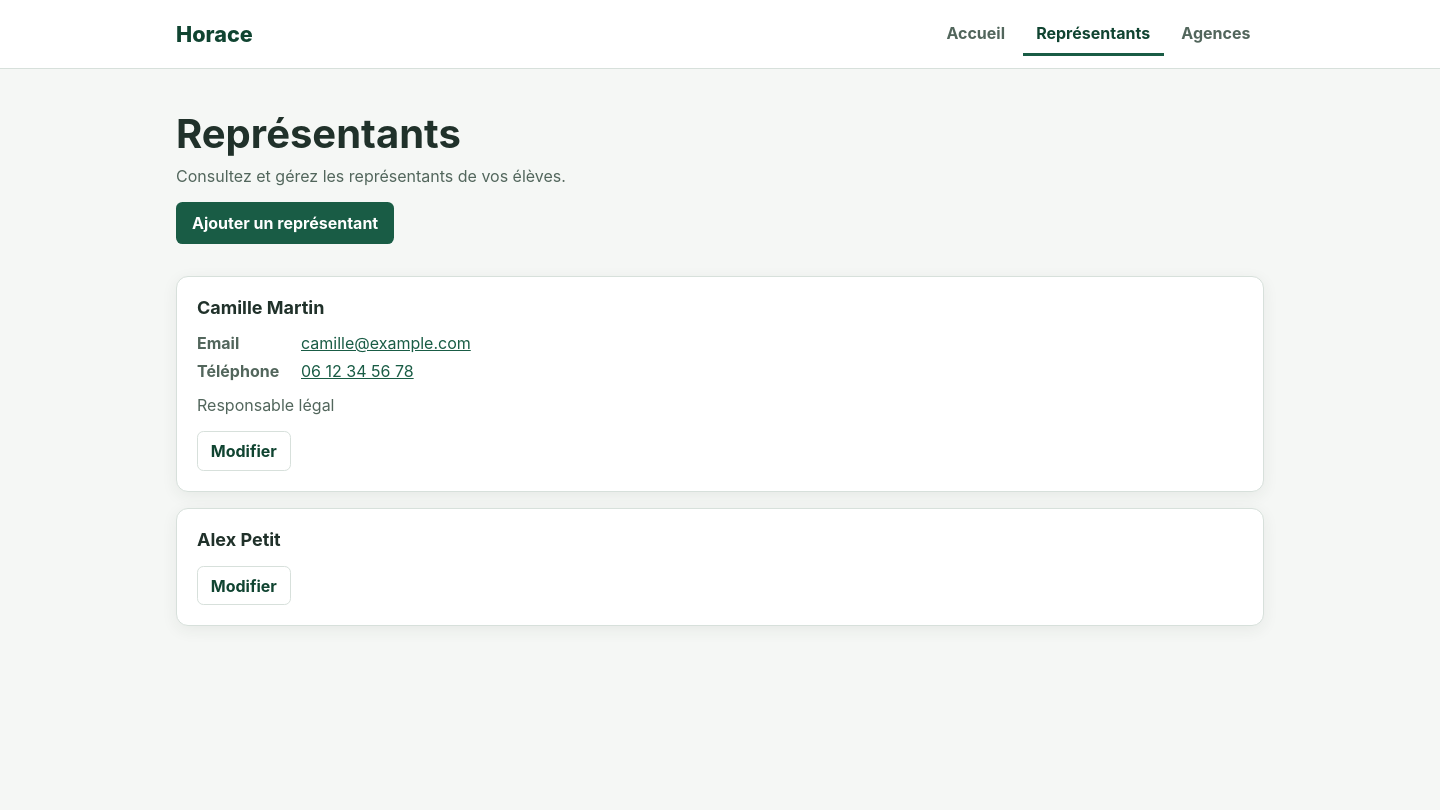
Test: page représentants › envoie seulement les champs dirty et null pour effacer une valeur
The image size is (1440, 810).
Check: the heading "Camille Martin" is shown, box left=197, top=297, right=324, bottom=318
Click the button "Modifier" below "Martin": {"x": 244, "y": 451} left=197, top=431, right=291, bottom=471
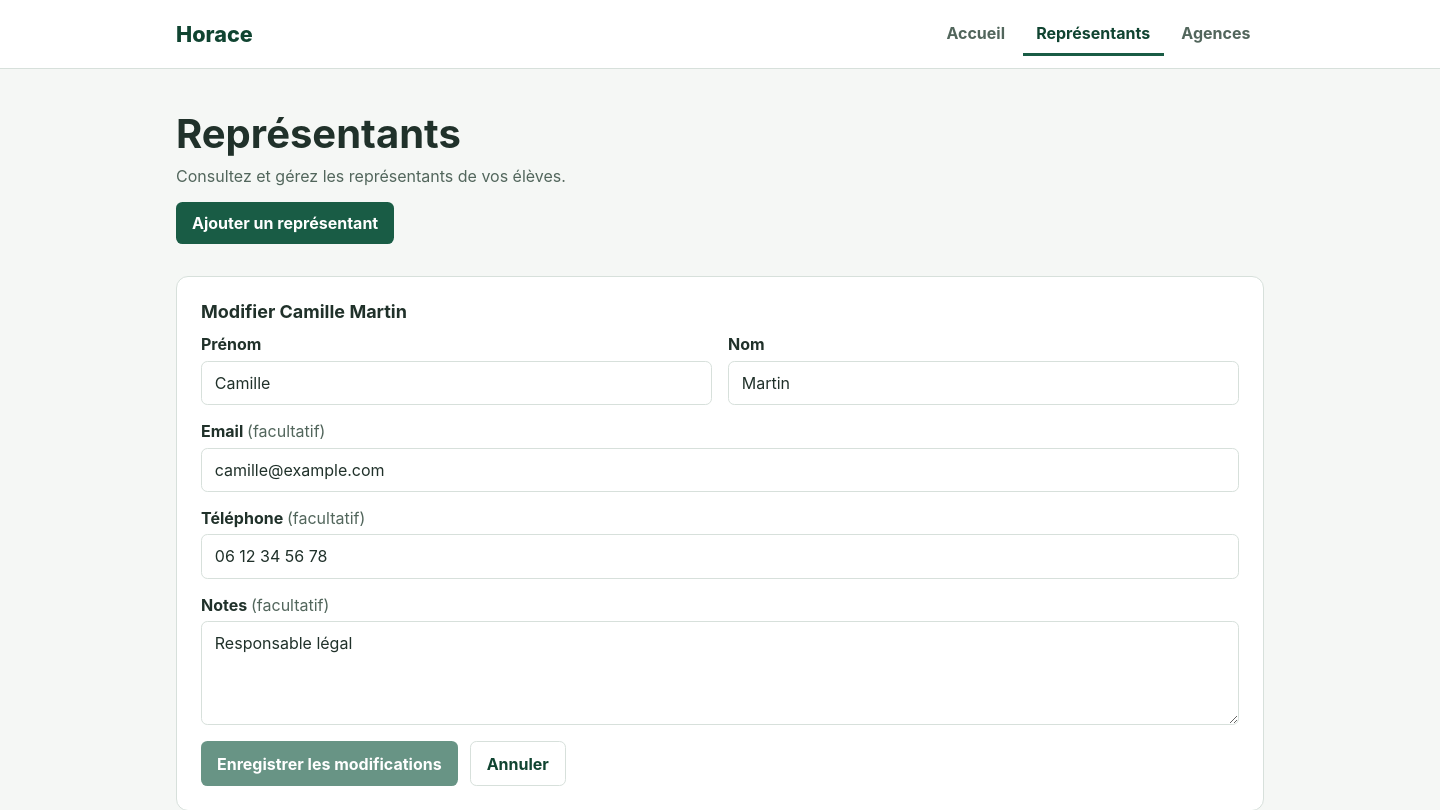
Replace the text in the field labelled "Nom" with "Bernard": {"x": 984, "y": 383} left=728, top=361, right=1239, bottom=405
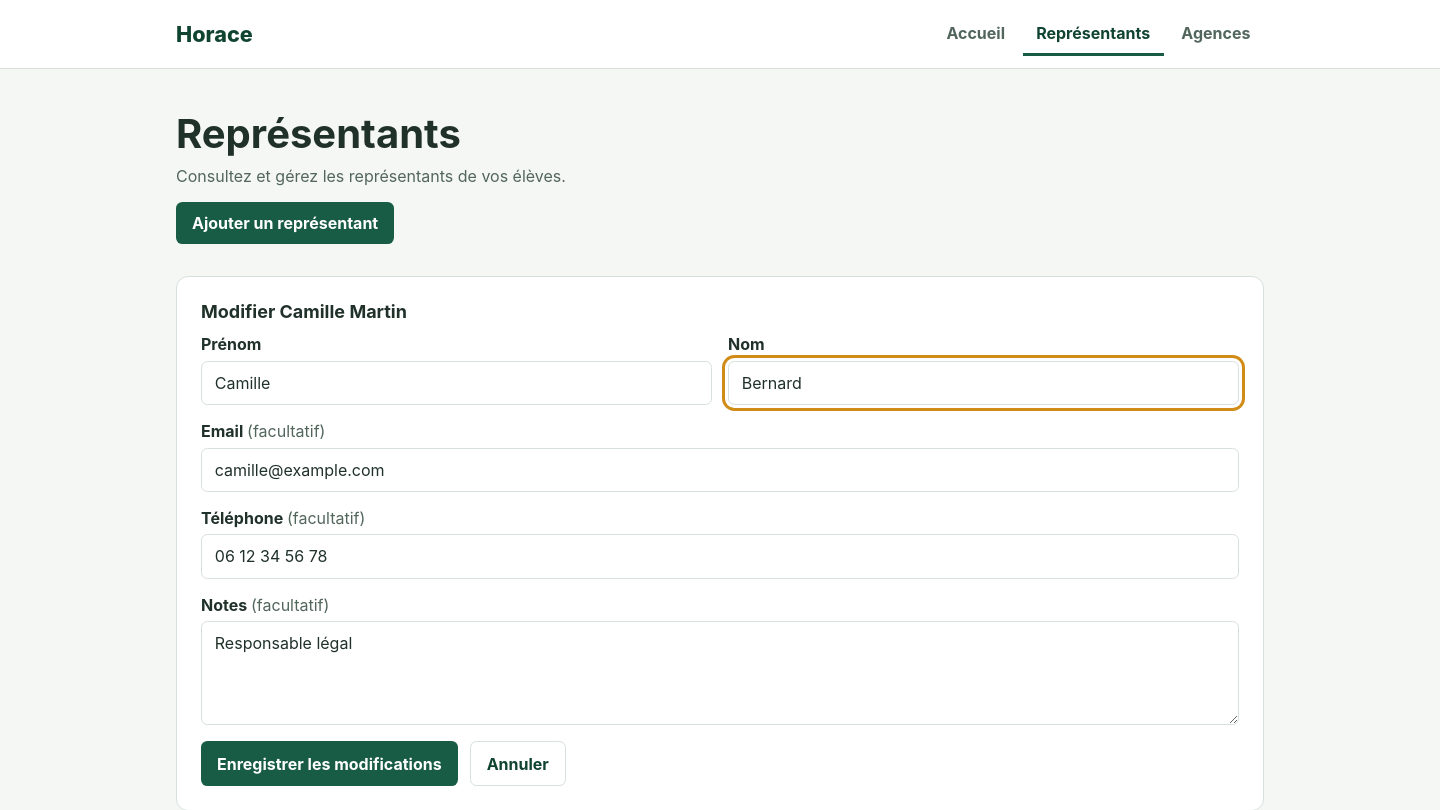
Clear the field labelled "Email (facultatif)": {"x": 720, "y": 470} left=201, top=448, right=1239, bottom=492
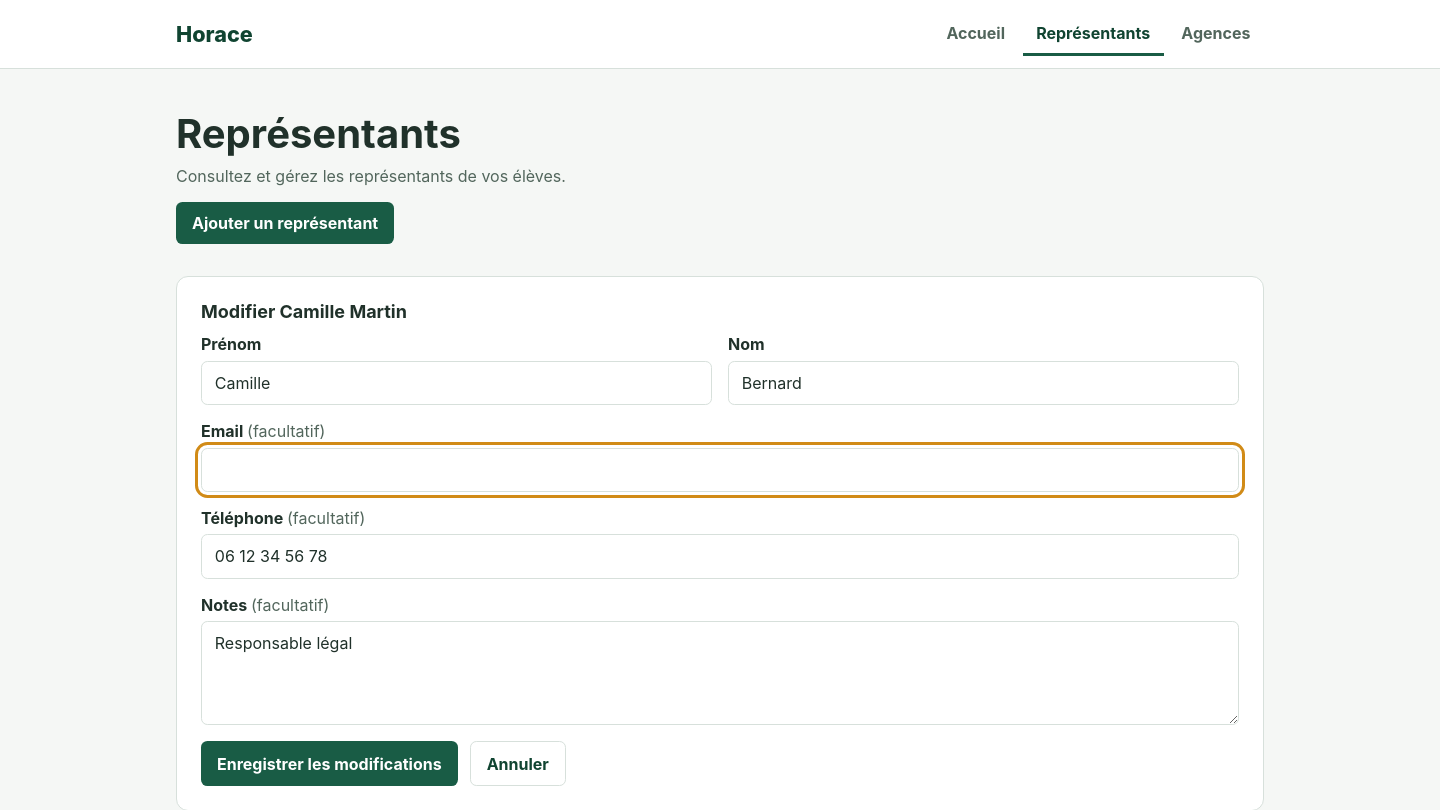
Click the button "Enregistrer les modifications": {"x": 329, "y": 764} left=201, top=741, right=458, bottom=786
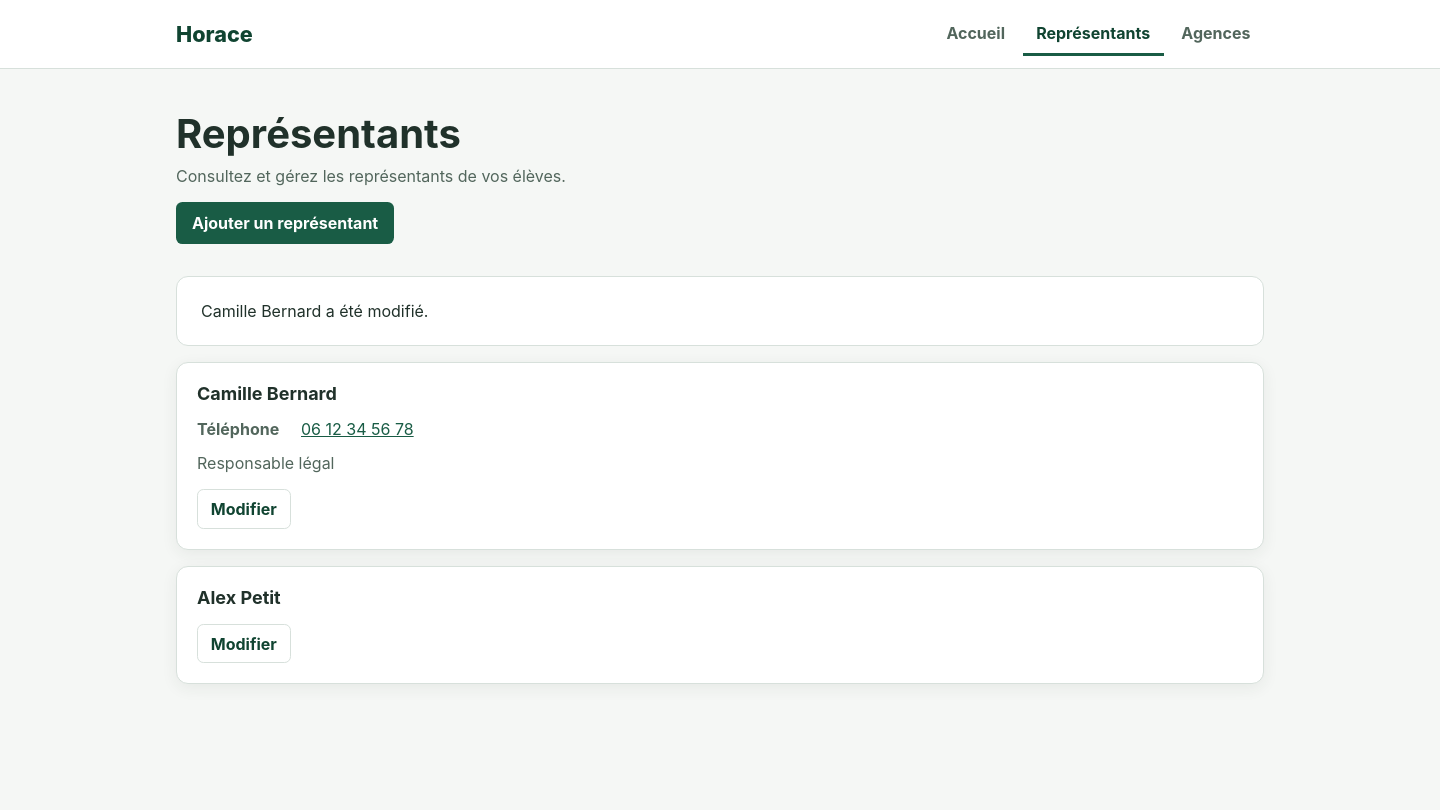
Check: the text "Camille Bernard a été modifié." is shown, box left=201, top=301, right=428, bottom=321
Check: the heading "Camille Bernard" is shown, box left=197, top=383, right=337, bottom=404
